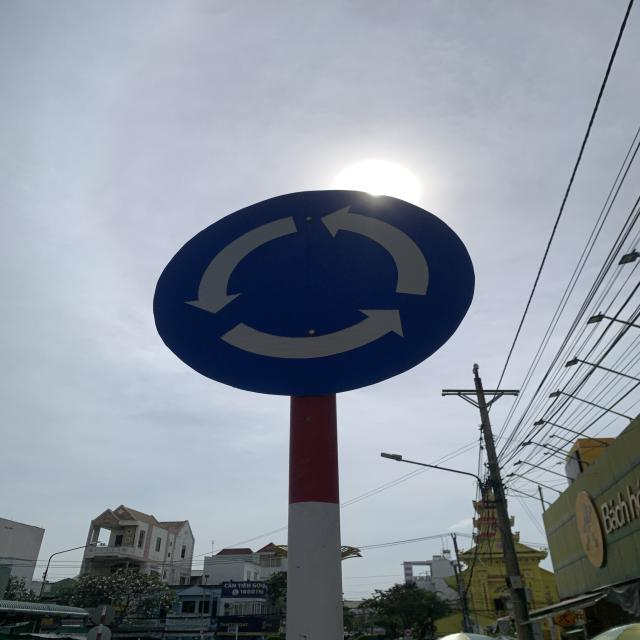Xe_Bus: (152, 189, 478, 395)
